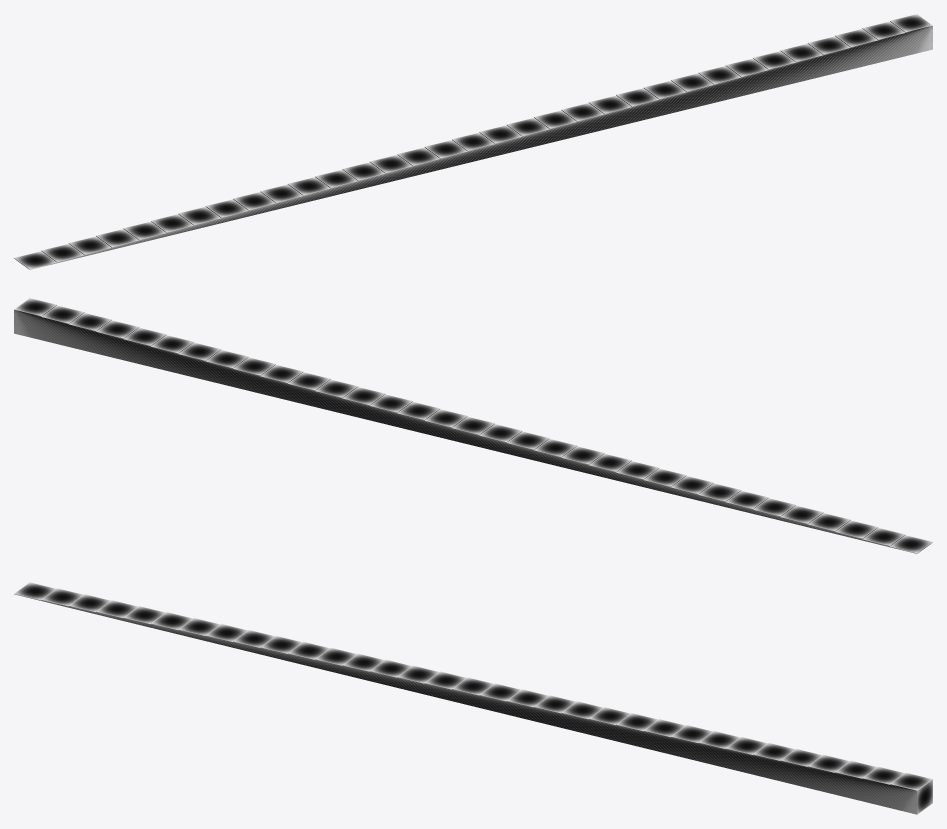
File: PUENTE.fbx
3 views of the same model, one above another, from view 1: azimuth 30°, elevation 25°; view 2: azimuth 150°, elevation 25°; view 3: azimuth 330°, elevation 25° (orthographic).
Visible parts, largest first — view 1: linearstair:linearstair_ncl1_1; view 2: linearstair:linearstair_ncl1_1; view 3: linearstair:linearstair_ncl1_1.
Part boxes in pixels (<box>): linearstair:linearstair_ncl1_1: <box>14,14,932,269</box>; linearstair:linearstair_ncl1_1: <box>14,298,932,553</box>; linearstair:linearstair_ncl1_1: <box>14,582,932,814</box>.
Size of the model in its own units: 12903 by 328 by 390.
Materials: 1 (1 with a texture image).
